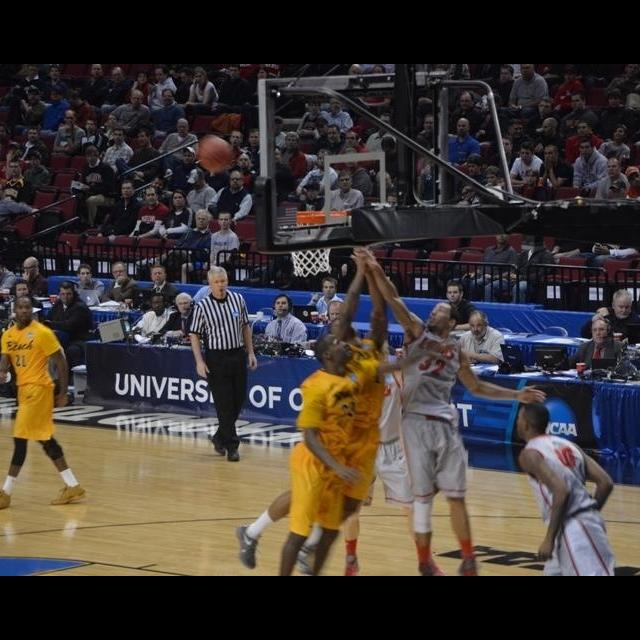basketball: (197, 137, 232, 170)
hoop: (281, 207, 337, 275)
